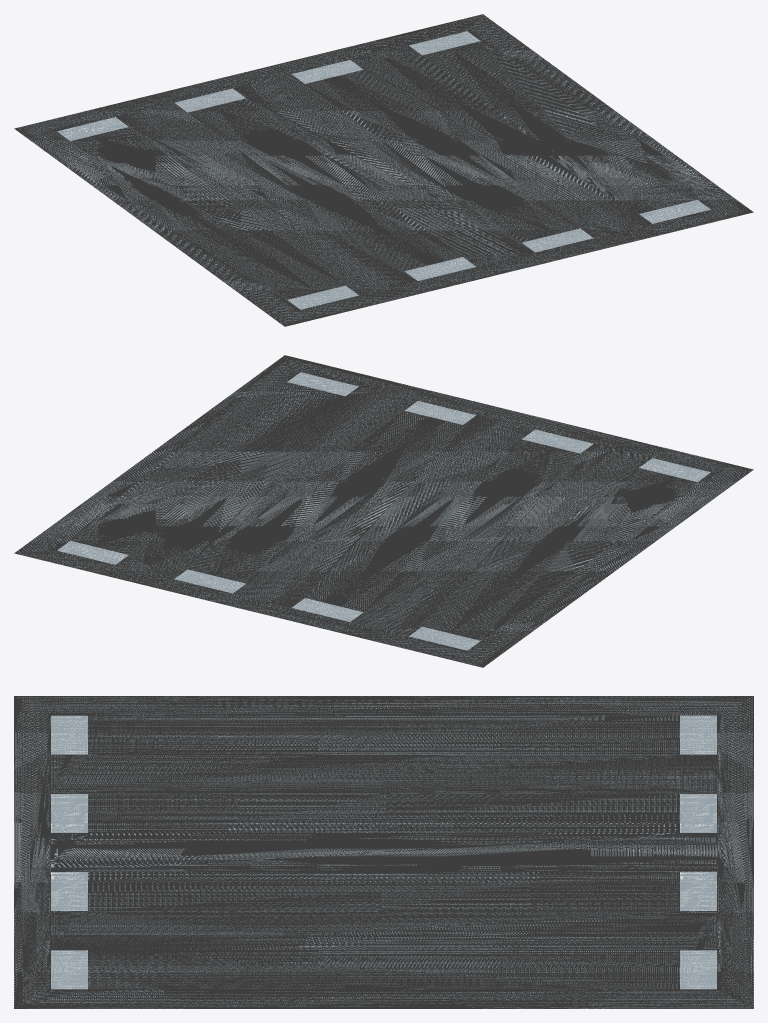
Rendered from pedestrian_crossing.fbx.
The picture shows the model from 3 angles, top to bottom: view 1: azimuth 30°, elevation 25°; view 2: azimuth 150°, elevation 25°; view 3: azimuth 270°, elevation 25°; orthographic projection. The views are drawn at different scales.
Visible parts, largest first — view 1: Model; view 2: Model; view 3: Model.
Part boxes in pixels (x1,y1,x2,y2): Model: [14, 14, 753, 326]; Model: [14, 355, 753, 667]; Model: [14, 696, 753, 1008].
Bounding box in the file's own units: 4 × 0 × 4.
